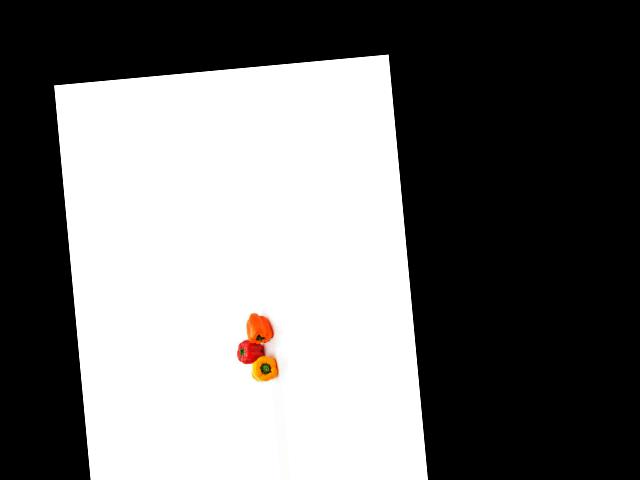bell_pepper: (248, 351, 279, 384)
